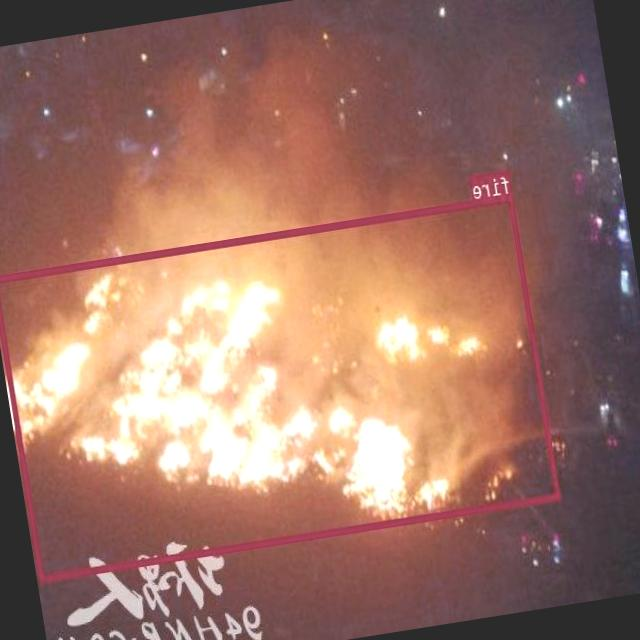fire: (0, 193, 562, 581)
